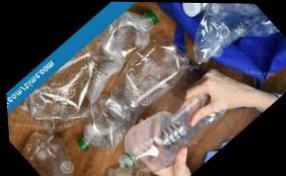glass: (55, 12, 202, 175), (110, 2, 169, 55)
plastic: (56, 12, 203, 175), (6, 2, 155, 113), (161, 3, 285, 79), (14, 42, 105, 132), (9, 109, 83, 175), (85, 145, 153, 175)
